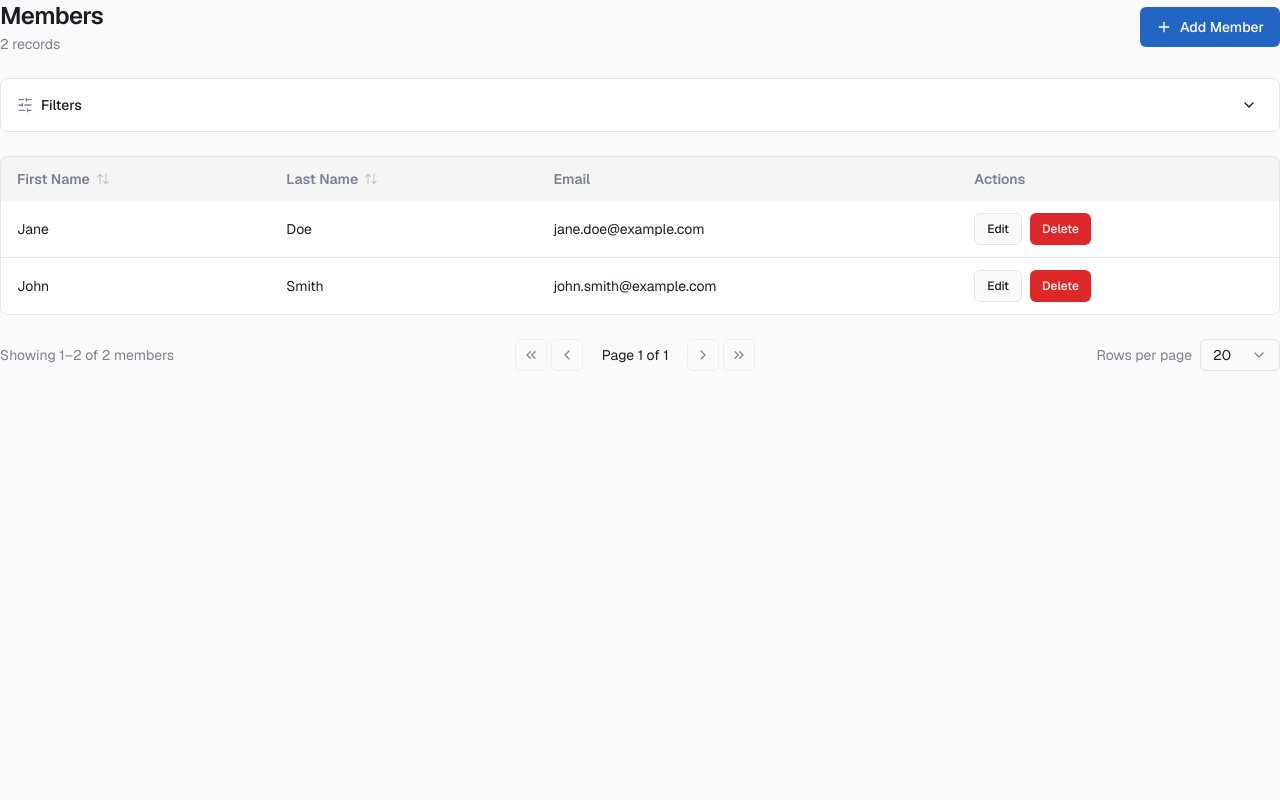
MemberList › opens delete dialog when delete button is clicked
The image size is (1280, 800).
Expected: the text "Jane" is shown, top-left (1, 201), bottom-right (270, 258)
Note: Find all delete buttons in the table rows
Click the button "Delete" in the row of "jane.doe@example.com": (1060, 229) top-left (1030, 213), bottom-right (1091, 245)
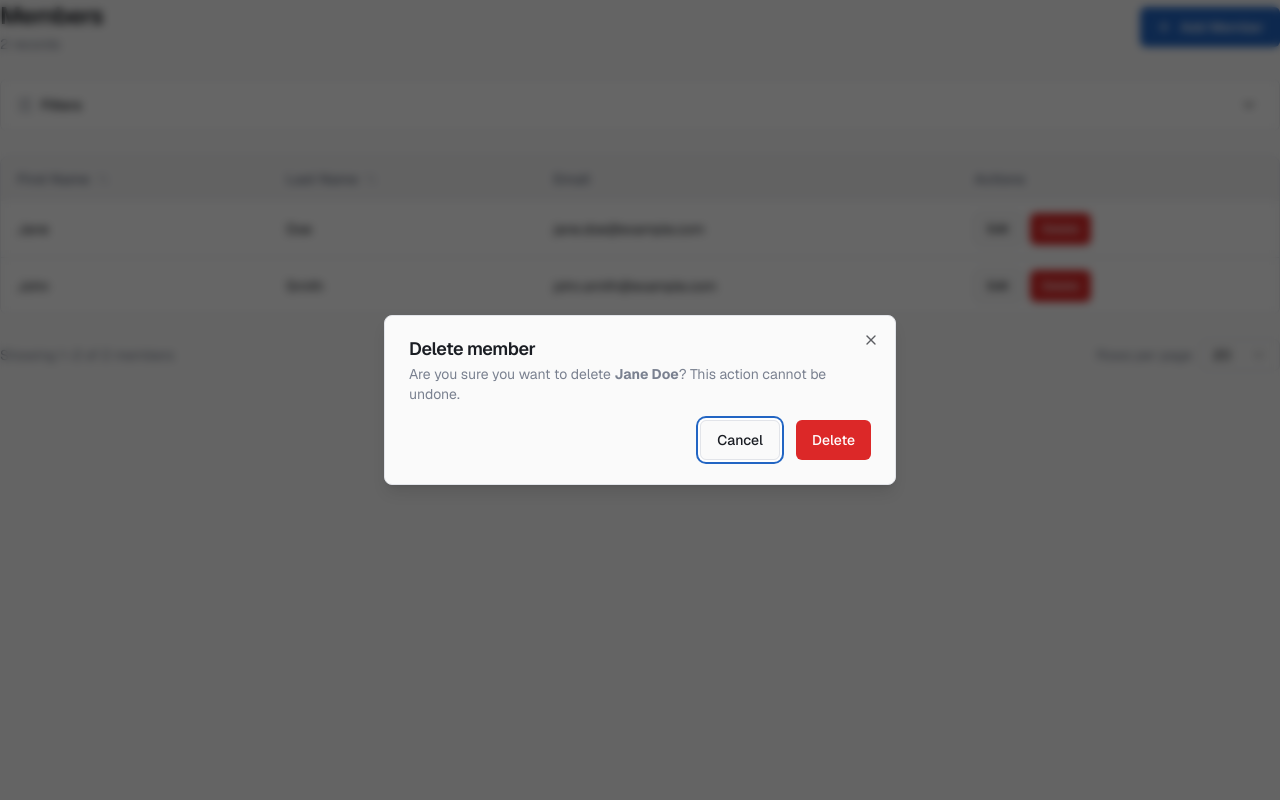
Expected: the dialog is shown, top-left (384, 315), bottom-right (896, 485)
